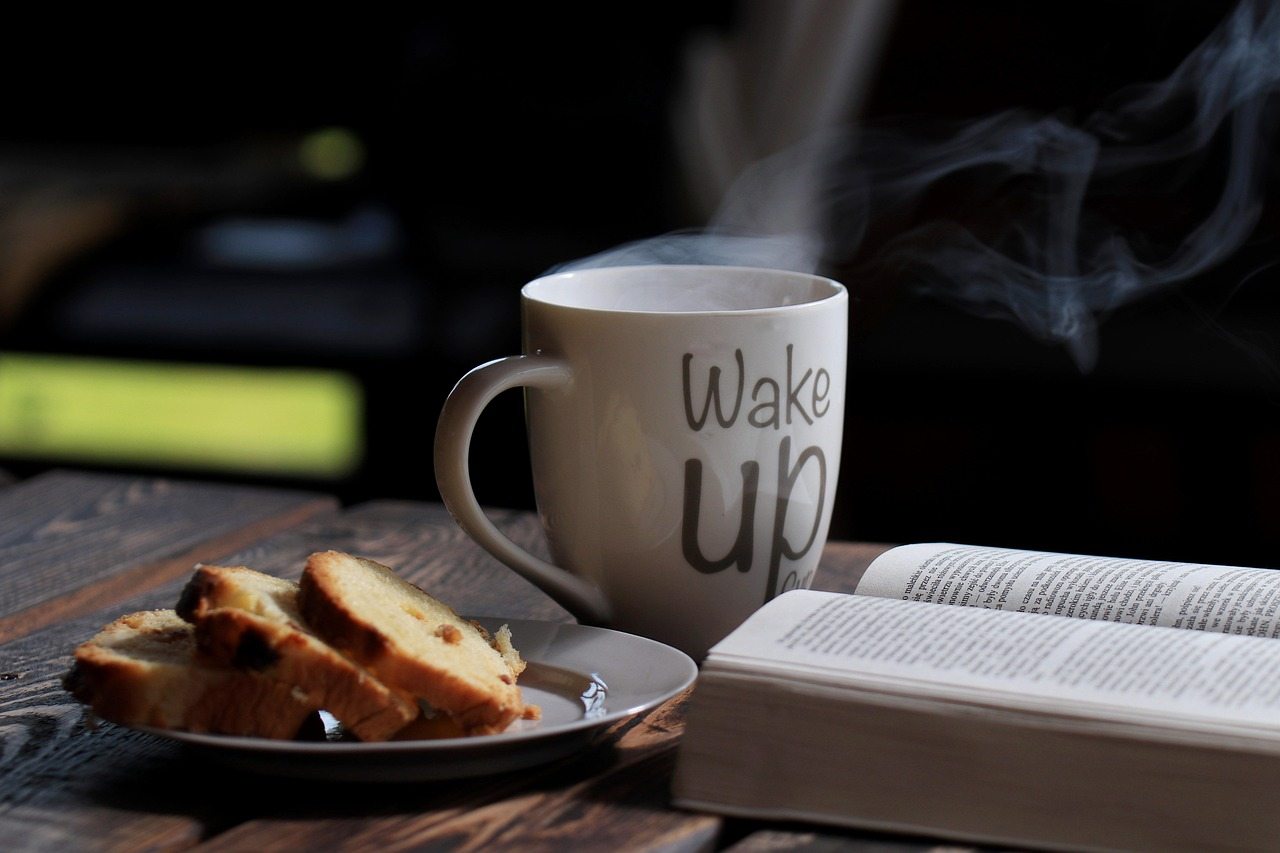mug: (358, 224, 947, 648)
